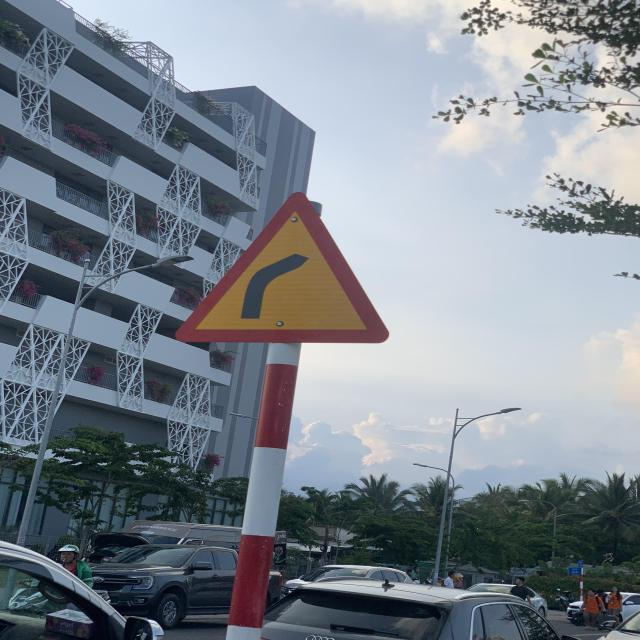Duong_Nguoi_Di_Bo_Cat_Ngang: (173, 194, 393, 344)
